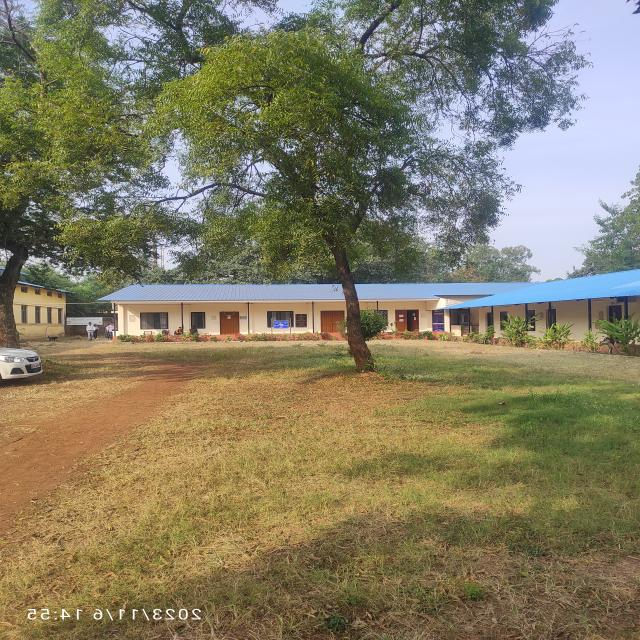Neem Tree: (116, 4, 525, 370)
